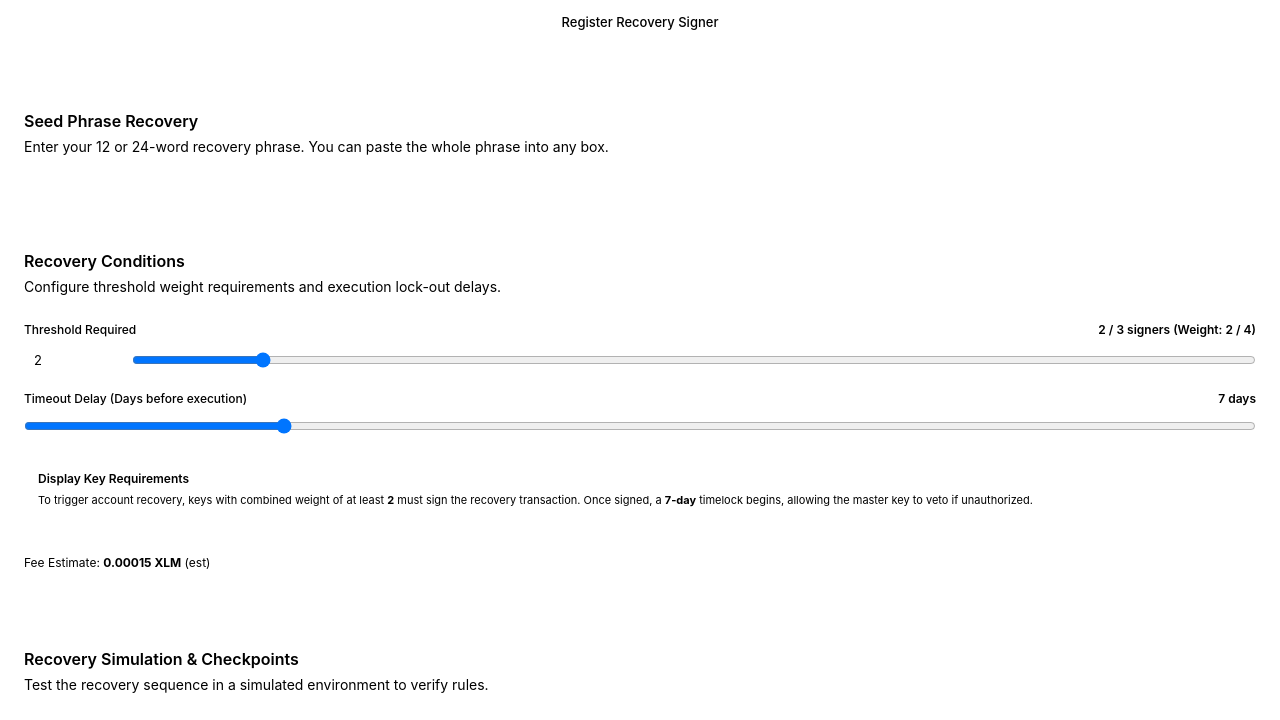
it: RecoveryScreen › Threshold validation (Issue #1142) › disables submit and shows error if revoking signers causes threshold > signers.length
(page scrolled)
Replace the text in the number field with test id "threshold-input" with "3". click: (72, 360)
box: [24, 346, 120, 374]
(page scrolled)
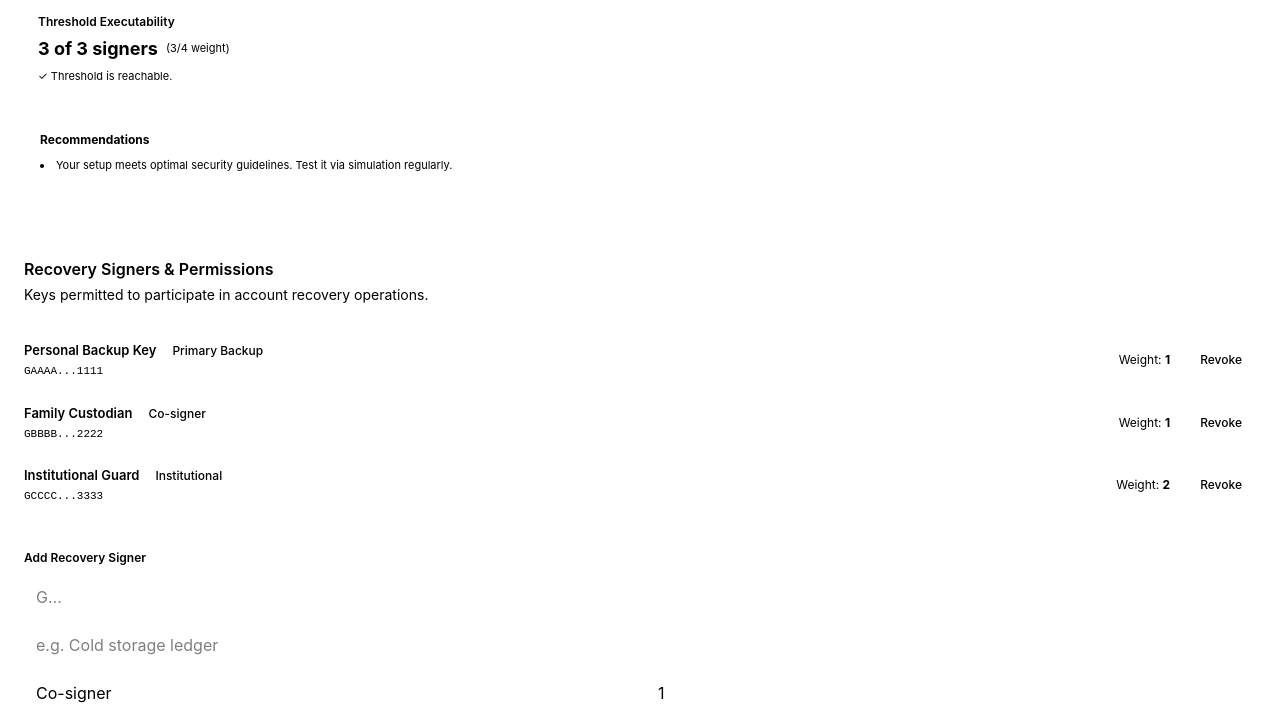
# Revoke one signer so count drops to 2
Click the button with aria-label "Revoke Personal Backup Key". click: (1221, 360)
box: [1186, 344, 1256, 376]
(page scrolled)
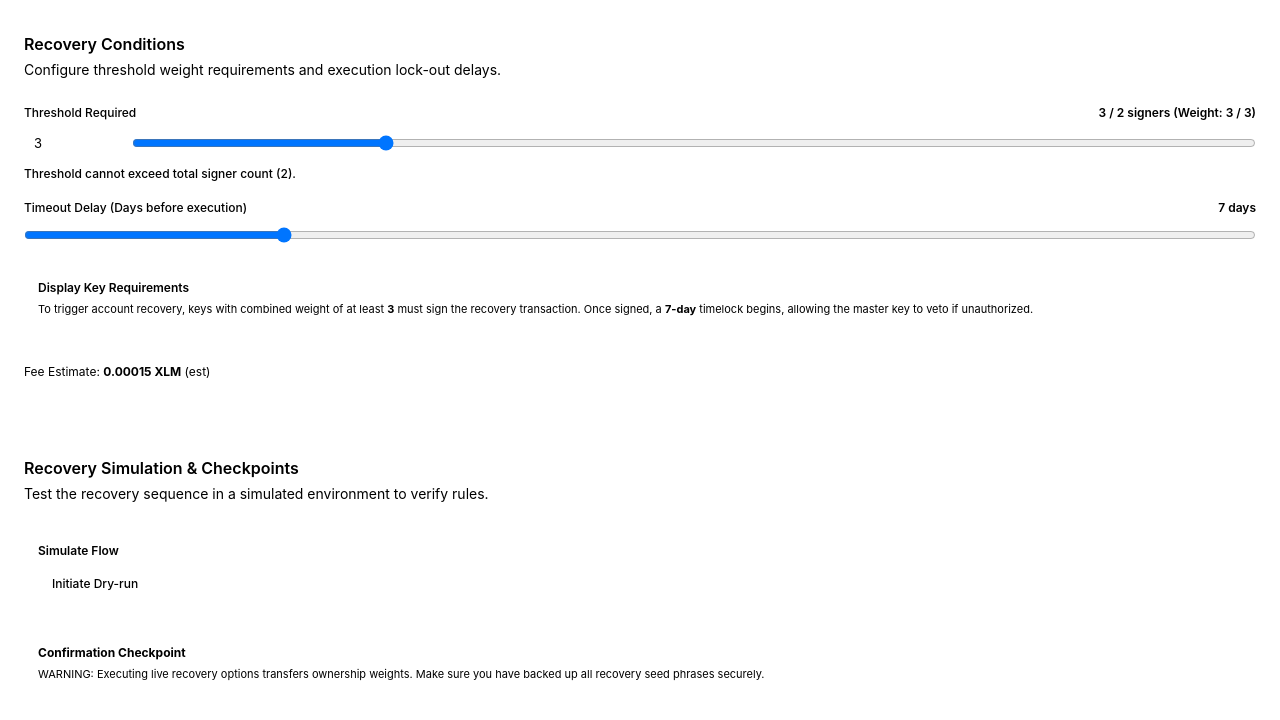
Expected: the message with test id "threshold-error" shows "Threshold cannot exceed total signer count (2)", [24, 166, 296, 181]
